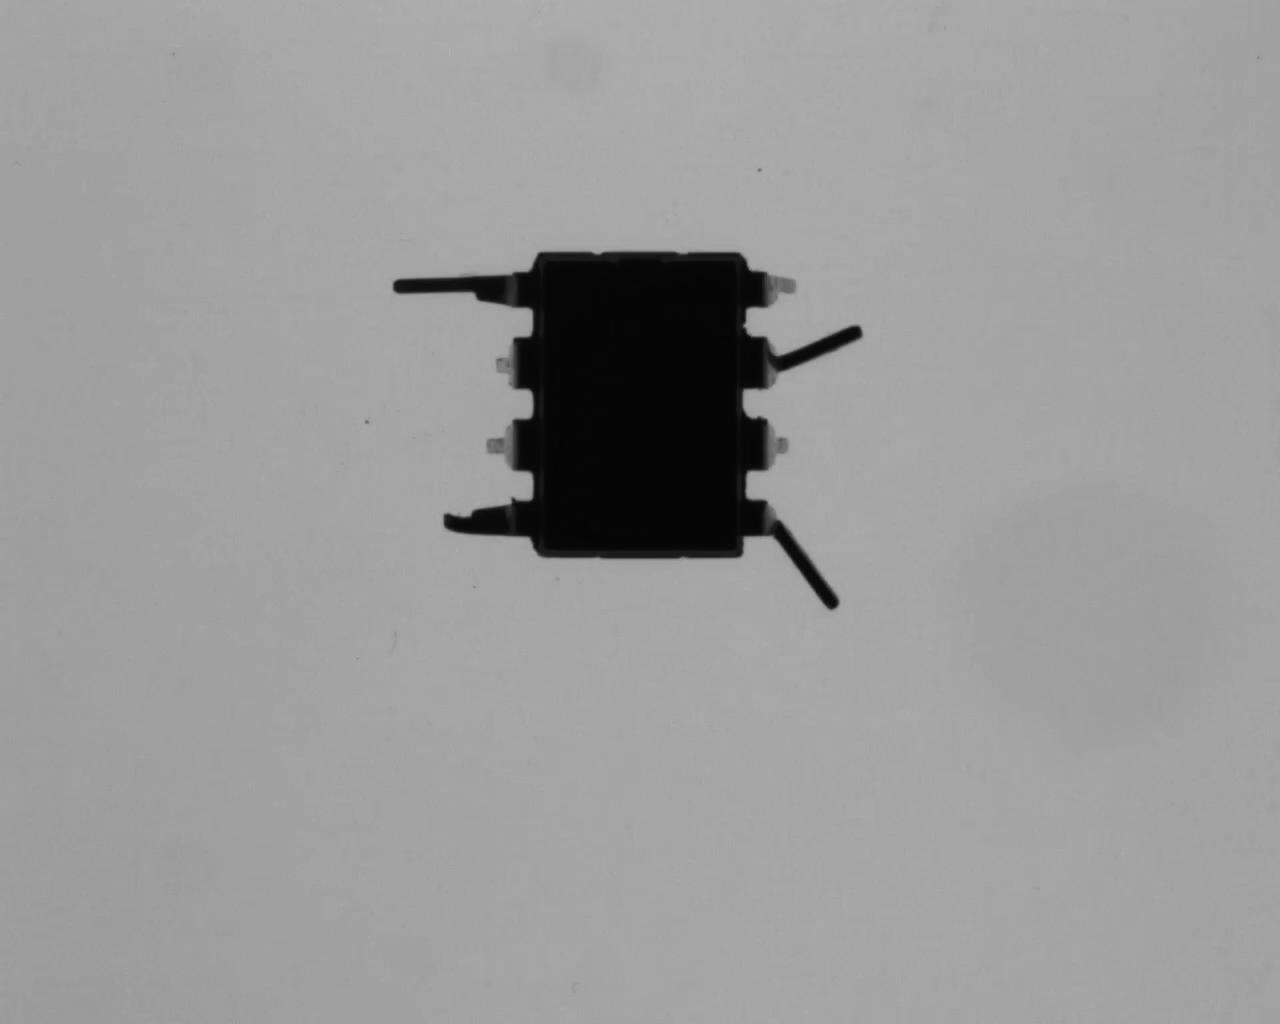Leg: (742, 494, 846, 614), (745, 323, 867, 392), (392, 272, 544, 315), (427, 494, 540, 544), (479, 408, 548, 479), (737, 409, 794, 483), (485, 330, 540, 394), (741, 264, 801, 311)
